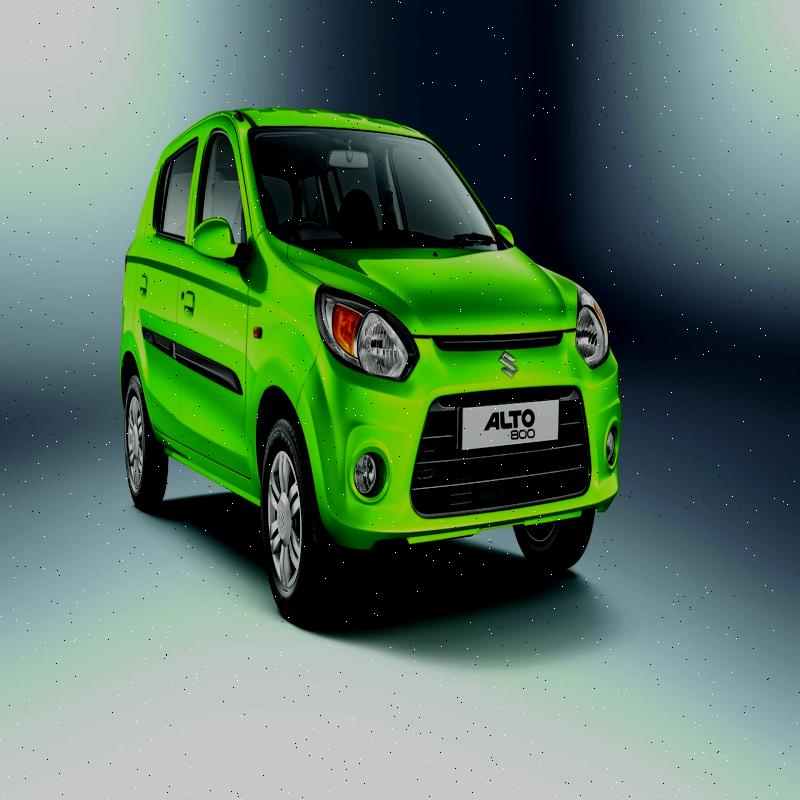car: (98, 122, 625, 571)
